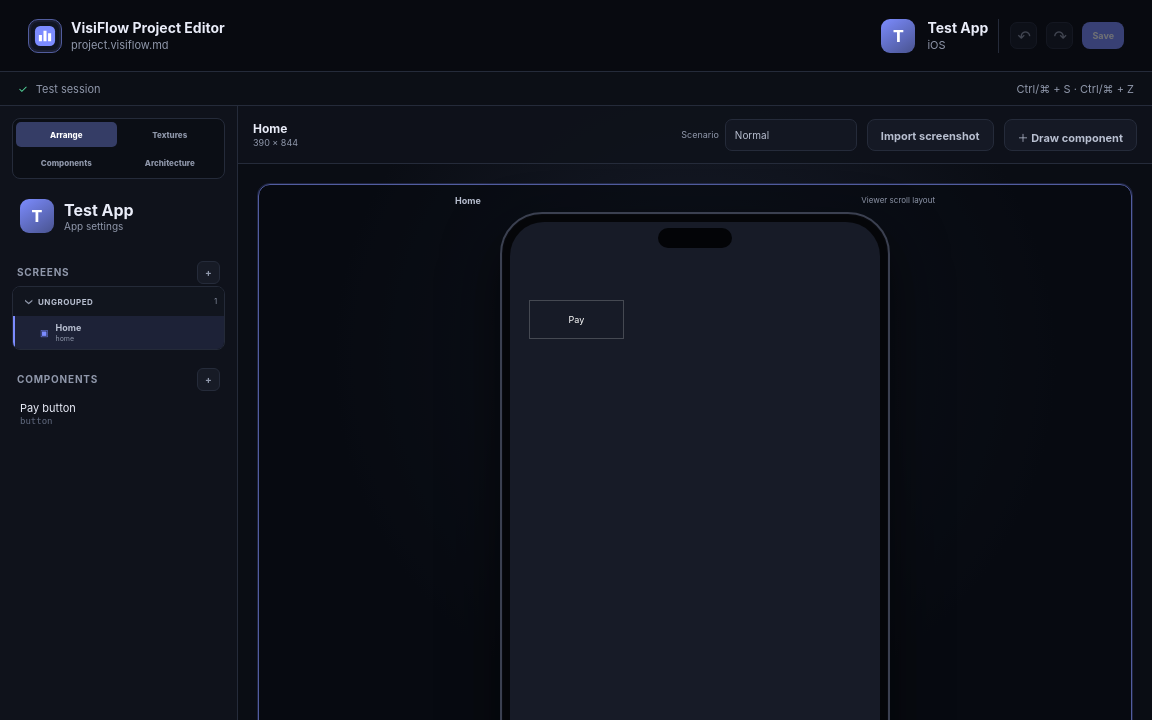
Test case: visual config editor › creates and edits first-class background tasks
The image size is (1152, 720).
Click the button "Architecture" at (170, 162), box [120,150,220,175]
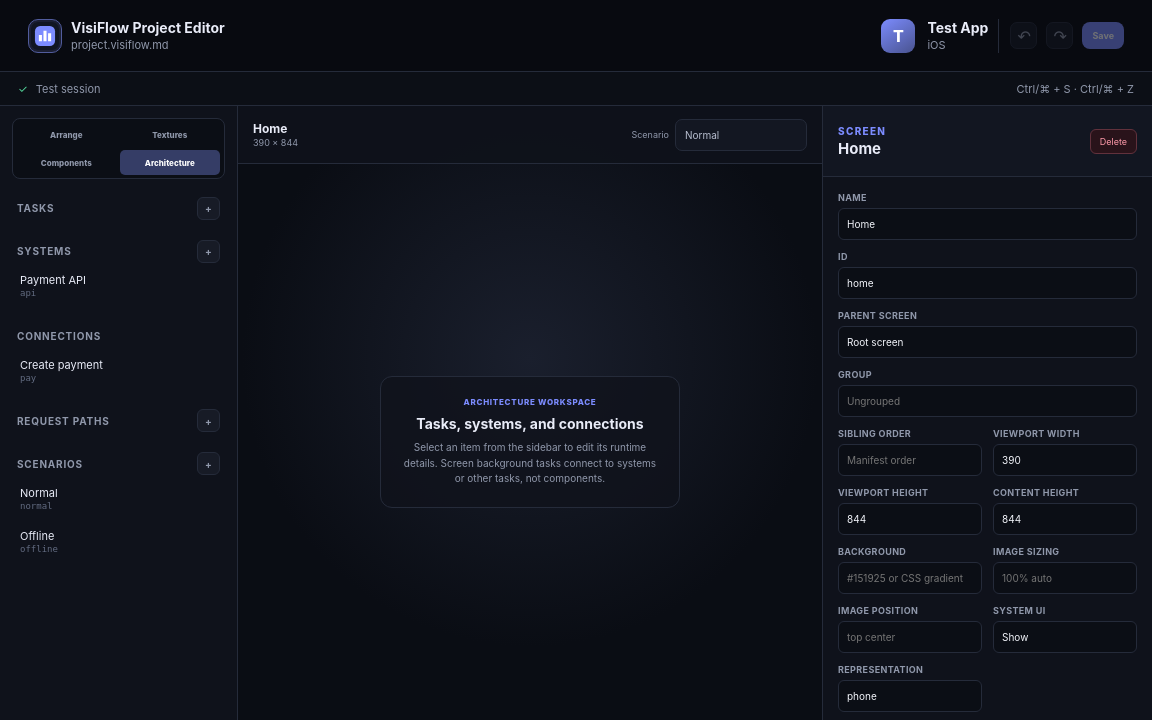
Click the button named "Add task" at (208, 208), box [197,196,220,220]
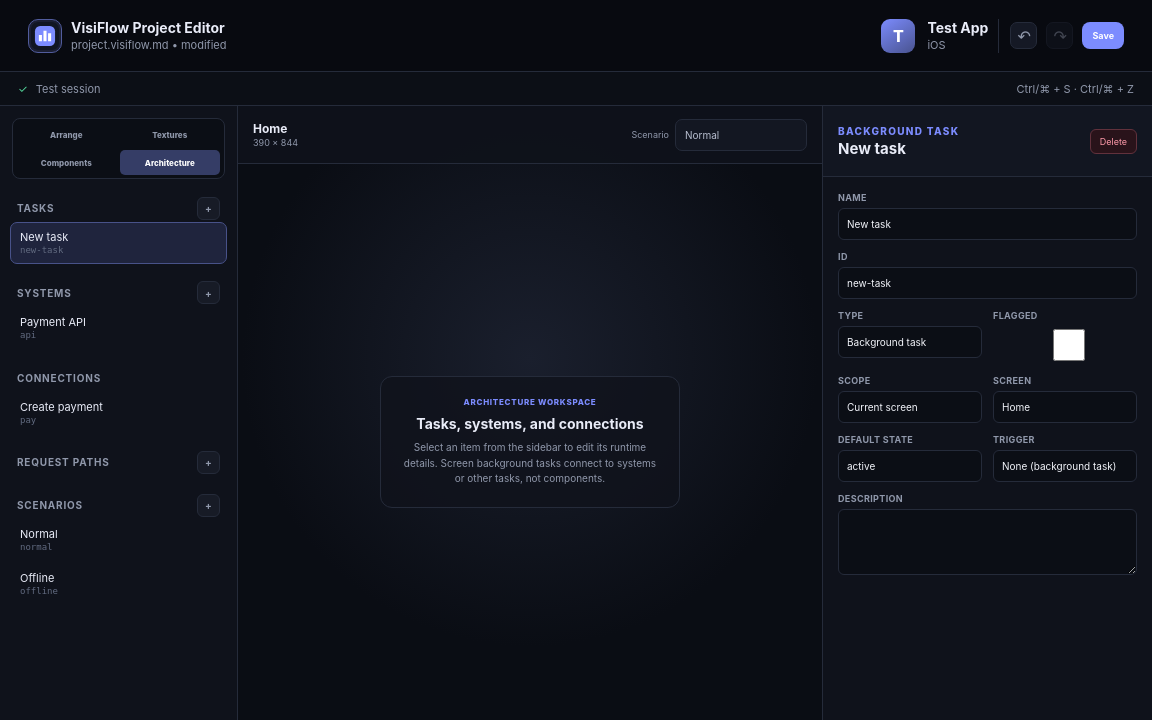
Now the heading "New task" is shown, box [838,138,906,158]
Now the dropdown labelled "Scope" shows "Current screen"
Select "App-wide" in the dropdown labelled "Scope" at (910, 407), box [838,391,982,423]
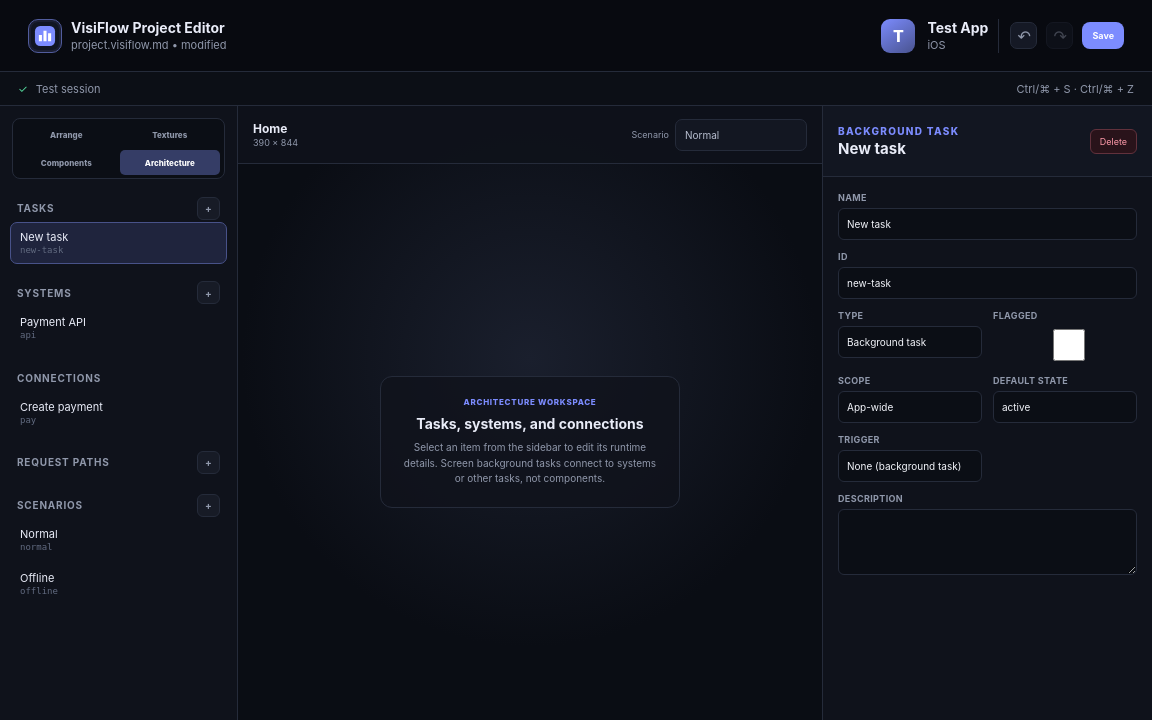
Select "polling" in the dropdown labelled "Trigger" at (910, 466), box [838,450,982,482]
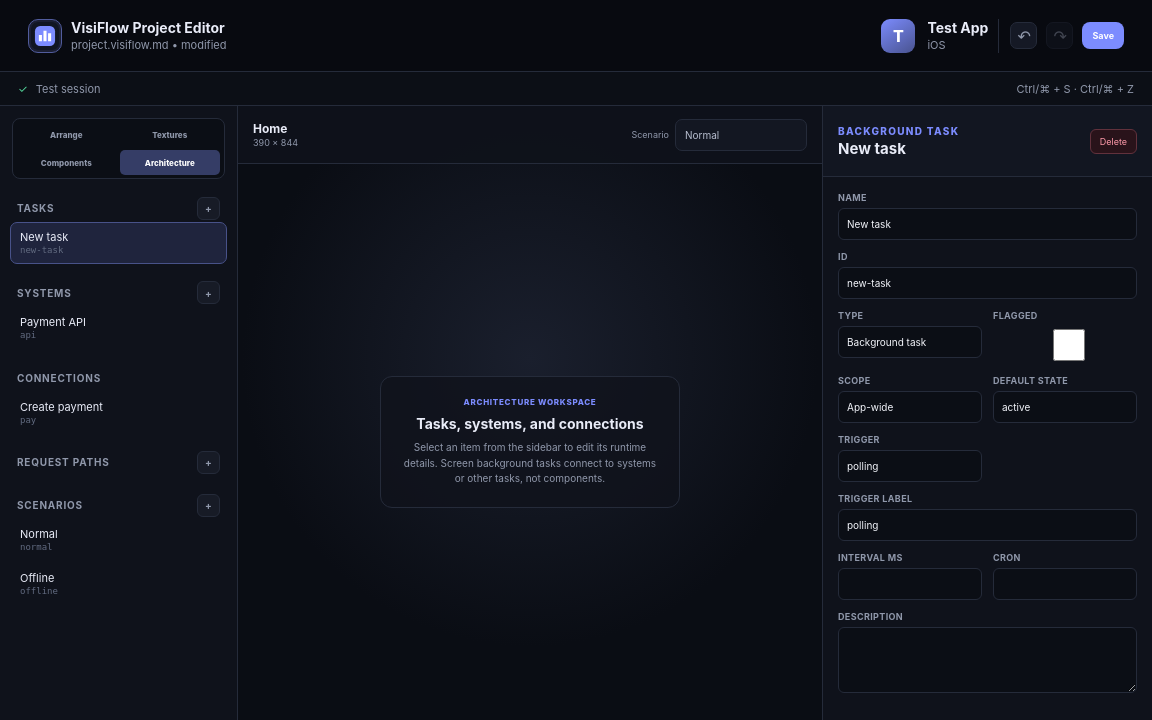
Replace the text in the field labelled "Trigger label" with "Every minute" at (988, 525), box [838,509,1137,541]
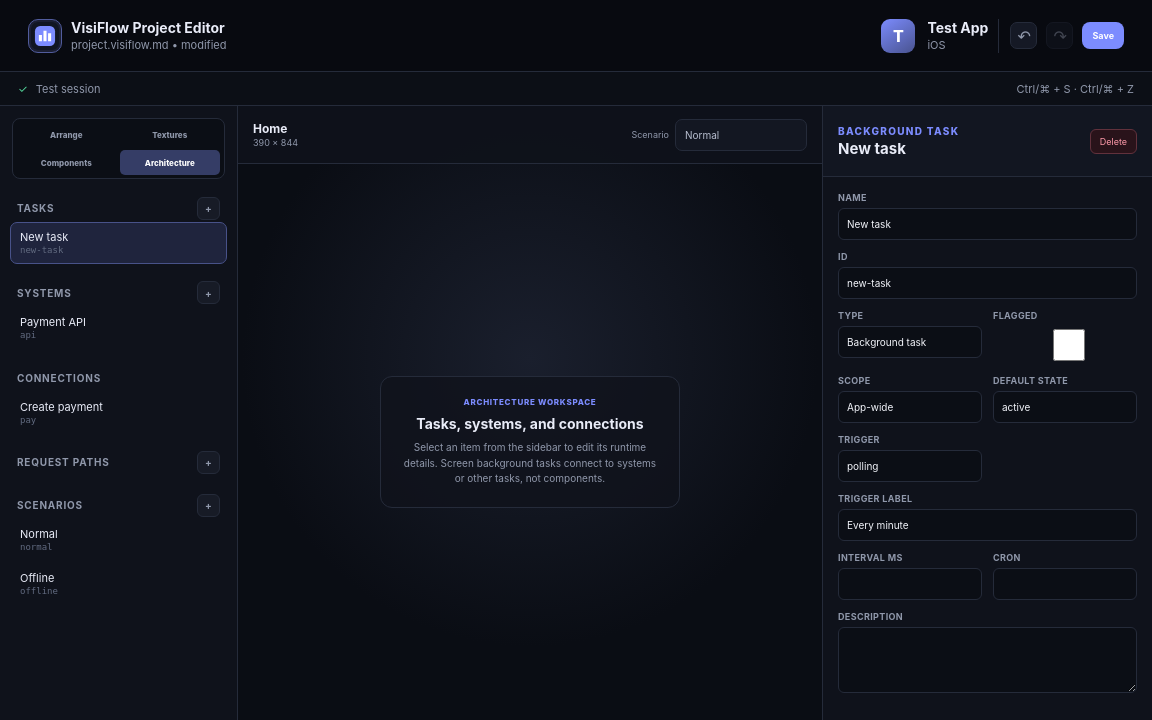
Now the button "Save" is enabled, box [1082,22,1124,49]
Click the button named "Normalnormal" at (118, 540), box [10,519,227,561]
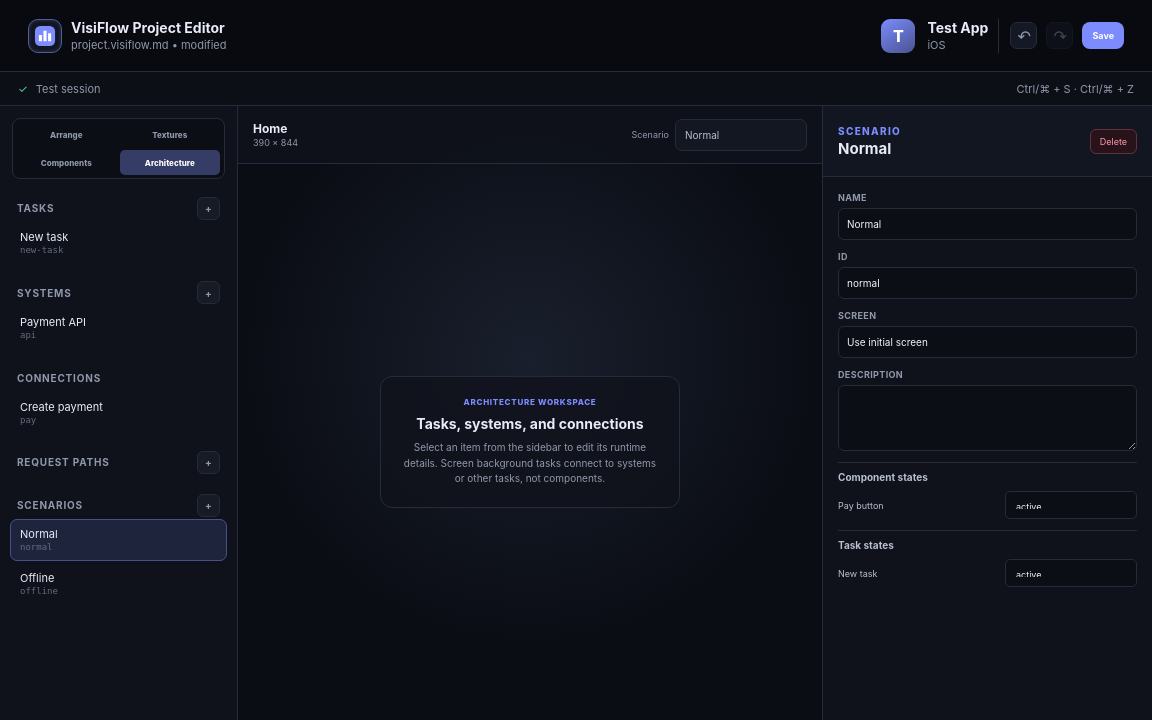
Now the 1st text "New task" is shown, box [20,230,68,244]
Now the text "Task states" is shown, box [838,539,894,551]
